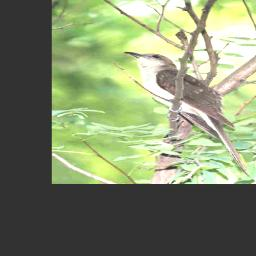Cuckoo: (124, 51, 250, 177)
